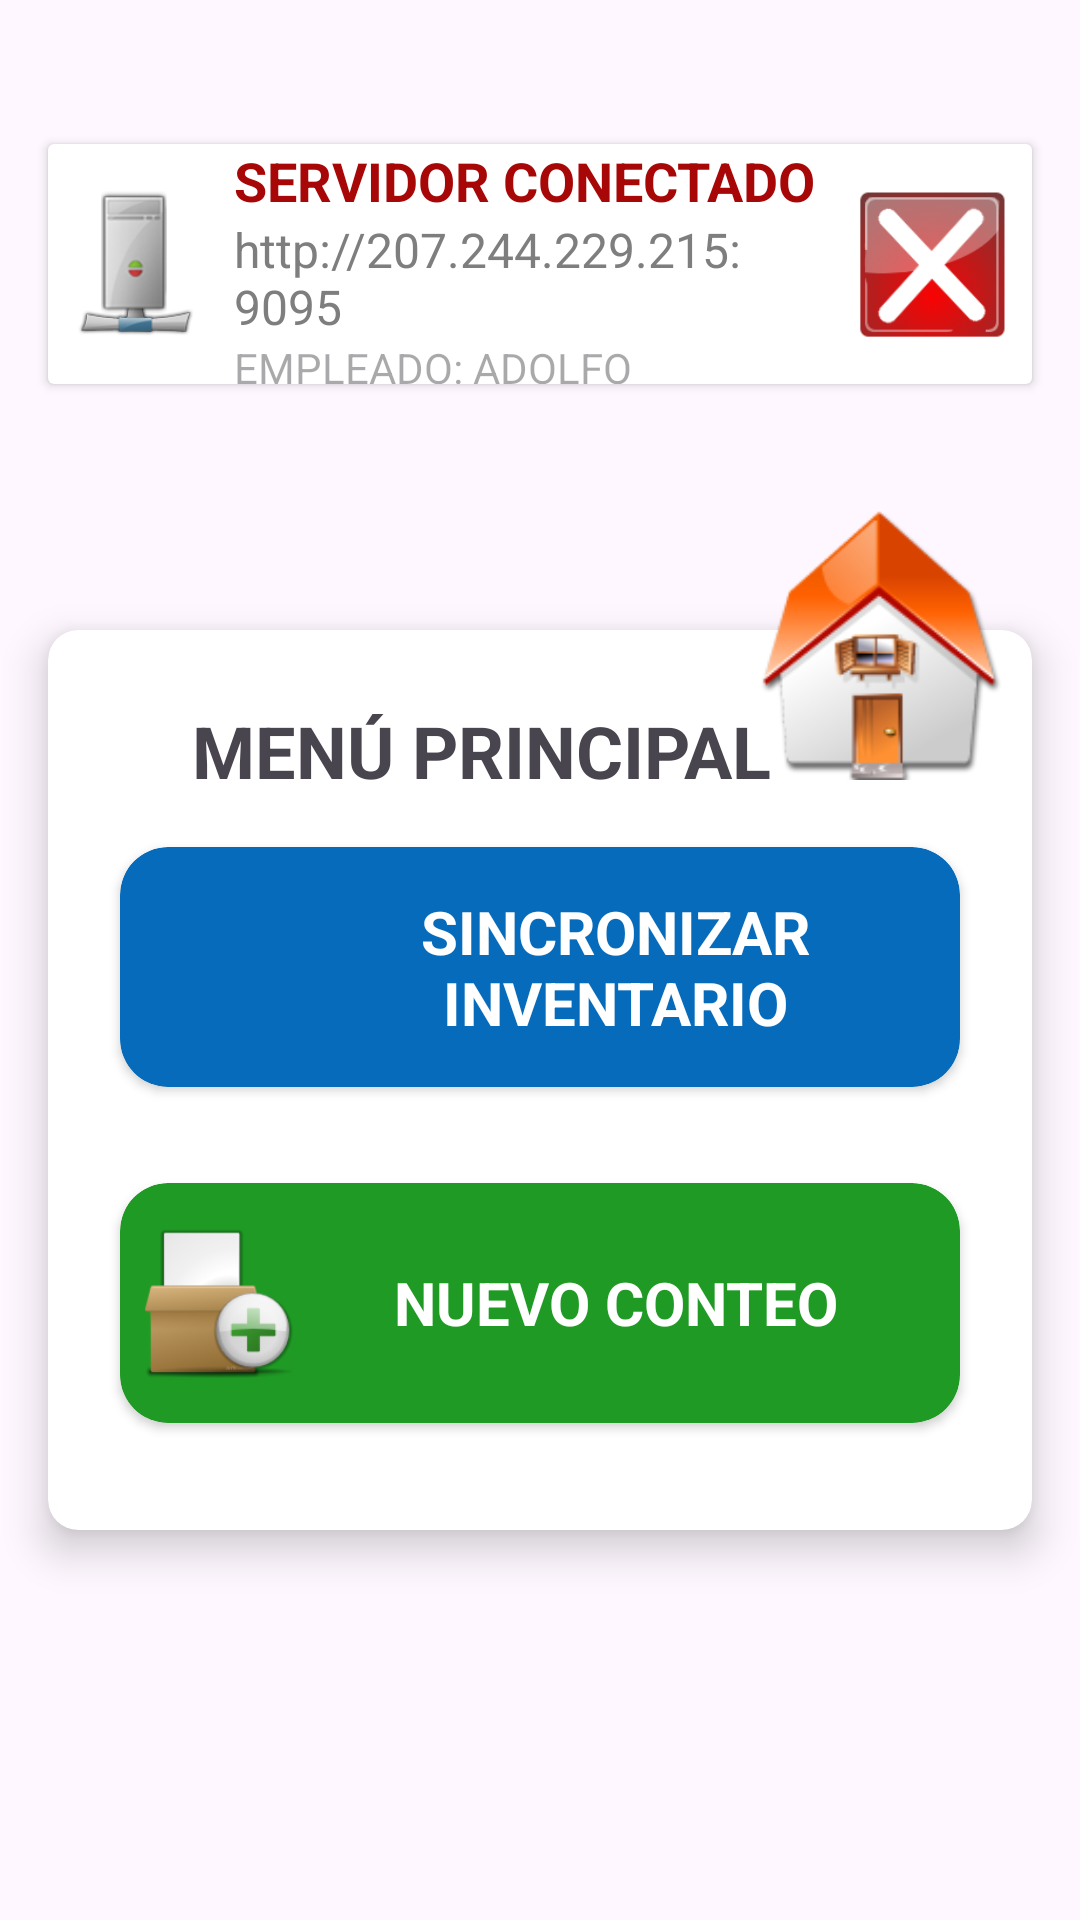

Named icons in this screenshot (1080*1920) and their centers, (x=x, y=y):
exit: (x=932, y=264)
home: (x=868, y=645)
server: (x=136, y=263)
